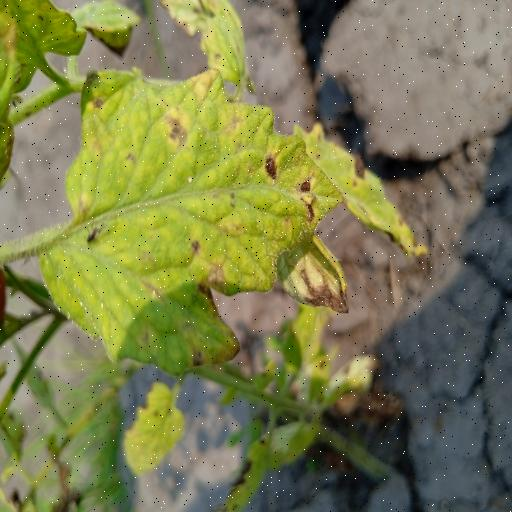Tomato_Brown_Spots: (35, 62, 348, 375)
